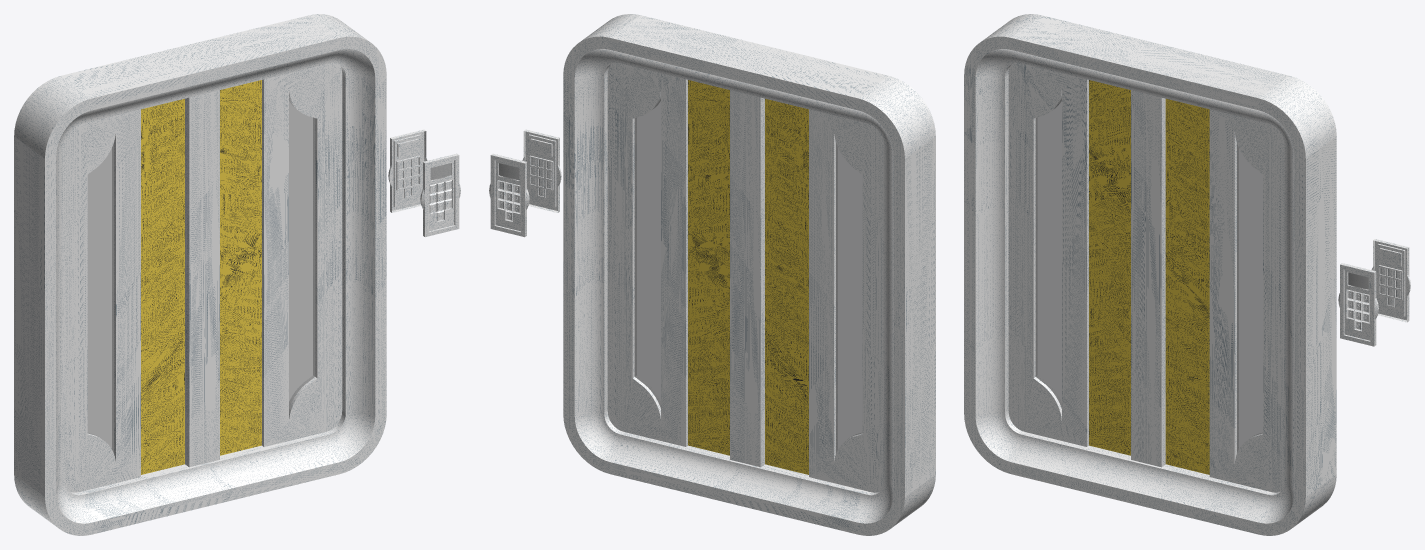
Rendered from Door+I.dae.
3 views of the same model, side by side, from view 1: azimuth 30°, elevation 25°; view 2: azimuth 150°, elevation 25°; view 3: azimuth 330°, elevation 25° (orthographic).
Visible parts, largest first — view 1: Componente_8 (×58), Componente_2 (×2), Componente_6 (×2), Componente_5 (×2), Componente_3 (×2); view 2: Componente_8 (×58), Componente_2 (×2), Componente_6 (×2), Componente_5 (×2), Componente_3 (×2); view 3: Componente_8 (×58), Componente_2 (×2), Componente_6 (×2), Componente_5 (×2), Componente_3 (×2).
Part boxes in pixels (left/top/right/bottom): Componente_8 (×58): left=66, top=63, right=342, bottom=492; Componente_2 (×2): left=14, top=14, right=386, bottom=535; Componente_6 (×2): left=388, top=129, right=460, bottom=237; Componente_5 (×2): left=394, top=135, right=454, bottom=231; Componente_3 (×2): left=397, top=156, right=451, bottom=220; Componente_8 (×58): left=607, top=63, right=883, bottom=492; Componente_2 (×2): left=563, top=14, right=935, bottom=535; Componente_6 (×2): left=489, top=129, right=561, bottom=237; Componente_5 (×2): left=495, top=135, right=555, bottom=231; Componente_3 (×2): left=498, top=156, right=552, bottom=220; Componente_8 (×58): left=1008, top=63, right=1284, bottom=492; Componente_2 (×2): left=964, top=14, right=1336, bottom=535; Componente_6 (×2): left=1338, top=239, right=1410, bottom=346; Componente_5 (×2): left=1344, top=244, right=1404, bottom=340; Componente_3 (×2): left=1347, top=265, right=1401, bottom=330.
Bounding box in the file's own units: 84.75 × 12.39 × 85.18.
